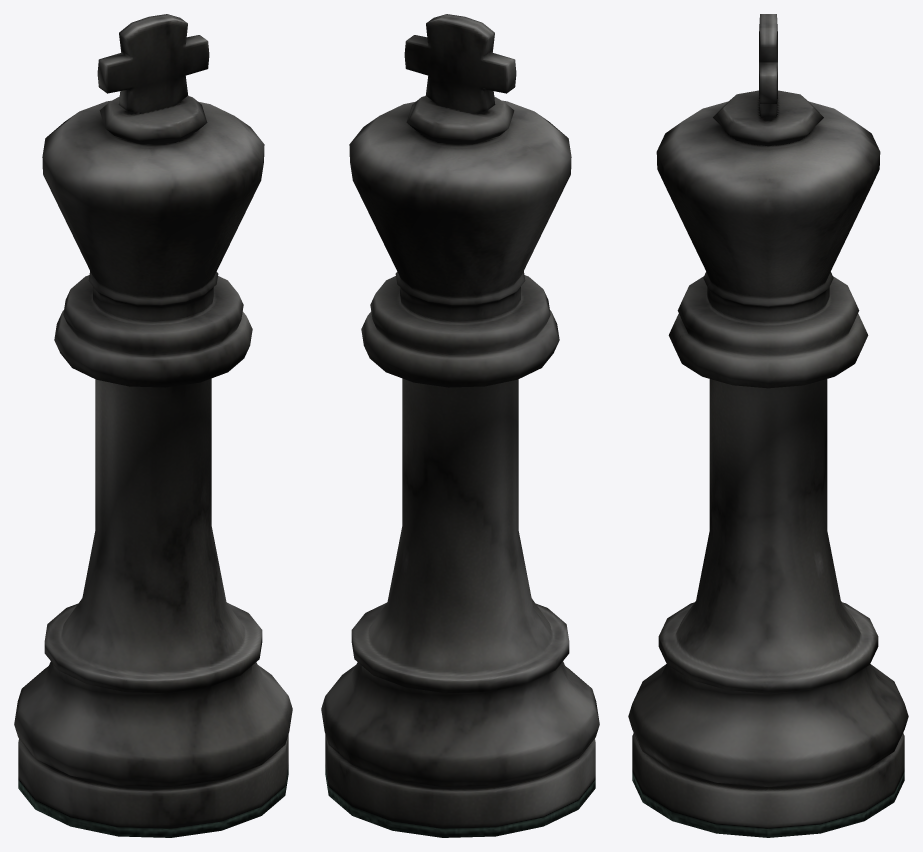
The model's file is ChessPieces_King_Black.gltf.
3 views of the same model, side by side, from view 1: azimuth 30°, elevation 25°; view 2: azimuth 150°, elevation 25°; view 3: azimuth 270°, elevation 25° (orthographic).
Parts seen in each view (by area): view 1: ChessPieces_King_Black; view 2: ChessPieces_King_Black; view 3: ChessPieces_King_Black.
Part boxes in pixels (x1,y1,x2,y2): ChessPieces_King_Black: (14,14,292,837); ChessPieces_King_Black: (321,14,599,837); ChessPieces_King_Black: (628,14,908,837).
Size of the model in its own units: 0.0304 by 0.0909 by 0.0304.
Materials: 1 (1 with a texture image).
